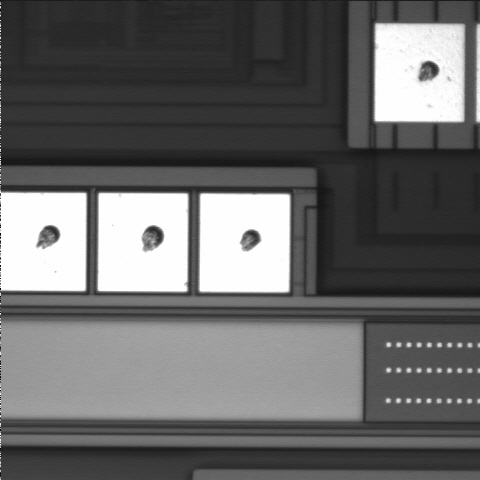pad: (98, 193, 188, 292), (200, 194, 290, 292), (375, 24, 464, 122)
